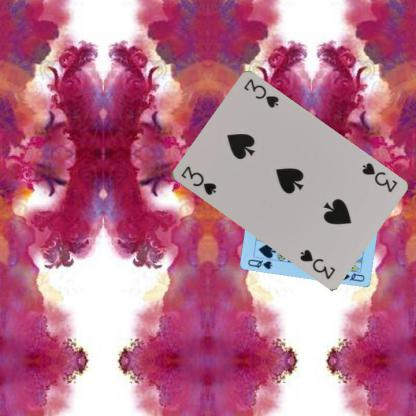3s: (358, 160, 399, 194), (178, 163, 218, 197)
Qs: (245, 256, 274, 271)
